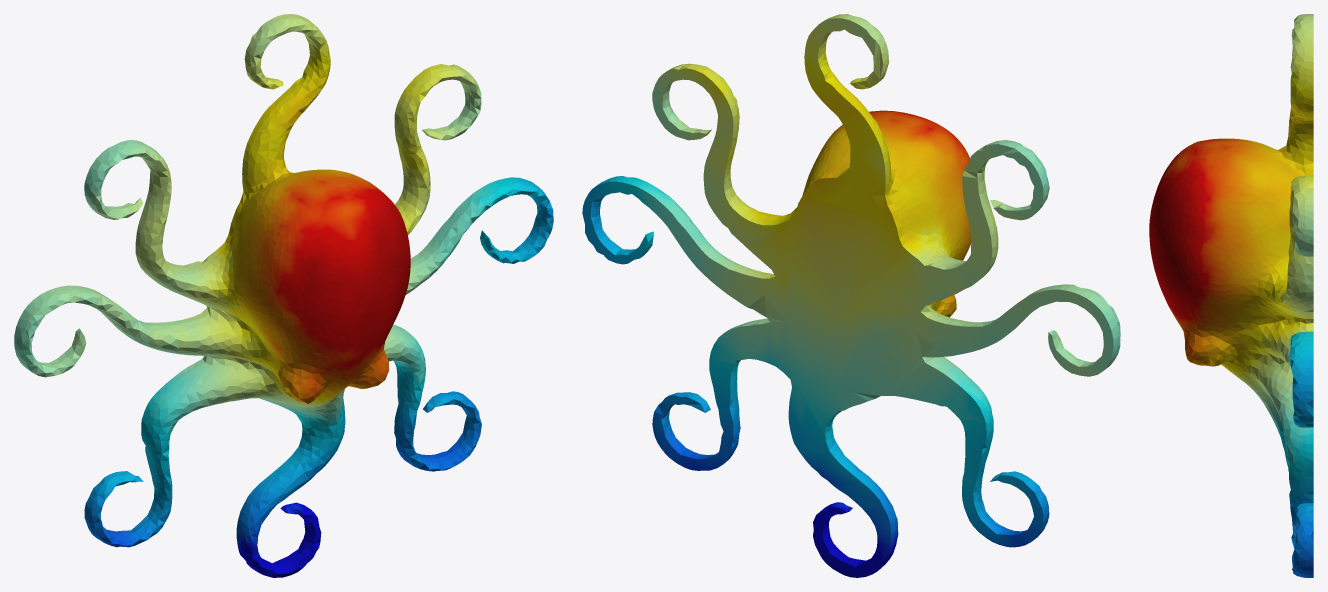
The model's file is octopus_fem_poisson.glb.
3 views of the same model, side by side, from view 1: azimuth 30°, elevation 25°; view 2: azimuth 150°, elevation 25°; view 3: azimuth 270°, elevation 25° (orthographic).
Visible parts, largest first — view 1: octopus_smooth.obj; view 2: octopus_smooth.obj; view 3: octopus_smooth.obj.
Boxes of the visible parts, x1,y1,x2,y2 form: octopus_smooth.obj: (14,14,553,577); octopus_smooth.obj: (582,14,1120,577); octopus_smooth.obj: (1149,14,1313,577).
Bounding box in the file's own units: 1.92 × 1.92 × 0.5226.
